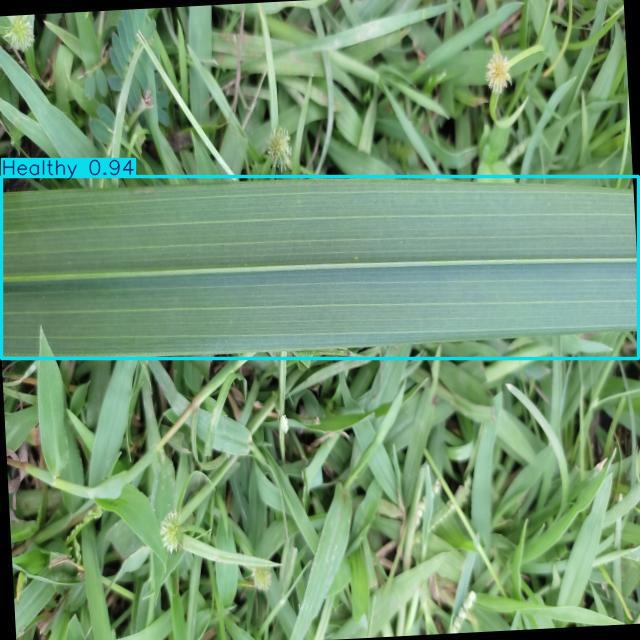Healthy: (1, 177, 638, 359)
